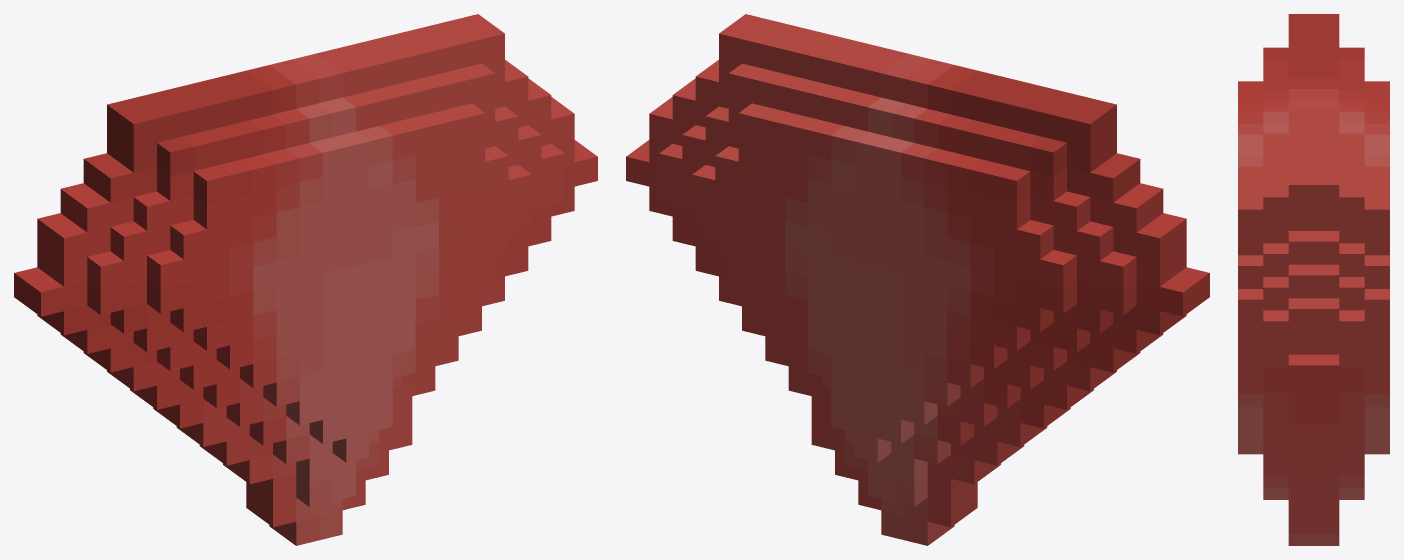
File: gem-red.glb
The picture shows the model from 3 angles, left to right: view 1: azimuth 30°, elevation 25°; view 2: azimuth 150°, elevation 25°; view 3: azimuth 270°, elevation 25°; orthographic projection. The views are drawn at different scales.
Visible parts, largest first — view 1: prop; view 2: prop; view 3: prop.
Boxes of the visible parts, bbox=[...] form: prop: bbox=[14, 14, 597, 545]; prop: bbox=[626, 14, 1209, 545]; prop: bbox=[1238, 14, 1389, 545].
Size of the model in its own units: 16.42 by 13 by 4.11.
